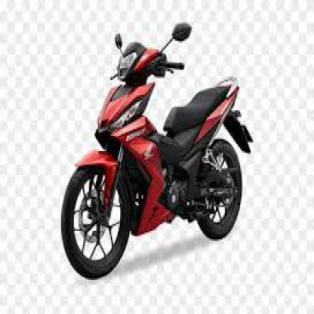Motocicleta: (51, 15, 254, 279)
